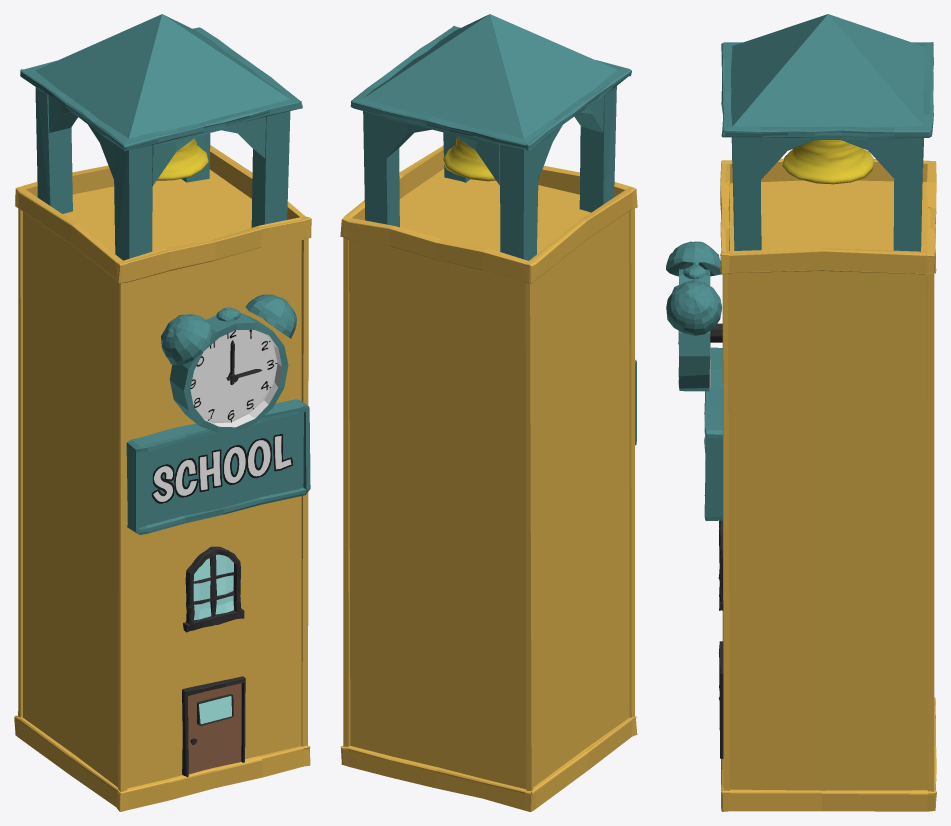
File: school tower.fbx
3 renders of one model, left to right at view 1: azimuth 30°, elevation 25°; view 2: azimuth 150°, elevation 25°; view 3: azimuth 270°, elevation 25°, orthographic.
Parts seen in each view (by area): view 1: Cube.040; view 2: Cube.040; view 3: Cube.040.
Part boxes in pixels (x1,y1,x2,y2): Cube.040: [14, 14, 311, 811]; Cube.040: [340, 14, 637, 811]; Cube.040: [666, 14, 936, 811].
Size of the model in its own units: 586 by 2132 by 698.
Materials: 8 (2 with a texture image).
